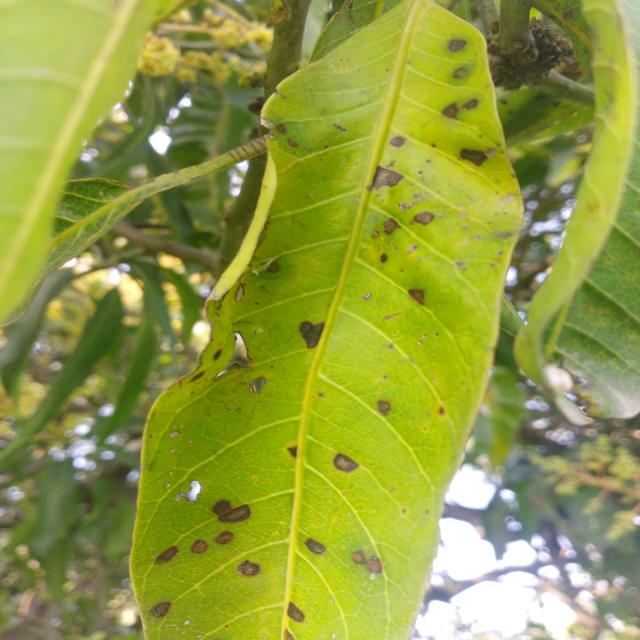Anthracnose: (224, 354, 282, 390), (292, 314, 330, 355), (214, 495, 255, 524), (365, 163, 403, 187), (404, 282, 433, 308), (331, 447, 358, 474), (148, 546, 172, 571), (461, 146, 494, 164), (373, 212, 404, 231), (235, 560, 265, 578), (439, 102, 474, 117), (304, 535, 326, 554), (372, 399, 394, 418), (446, 32, 464, 55)
